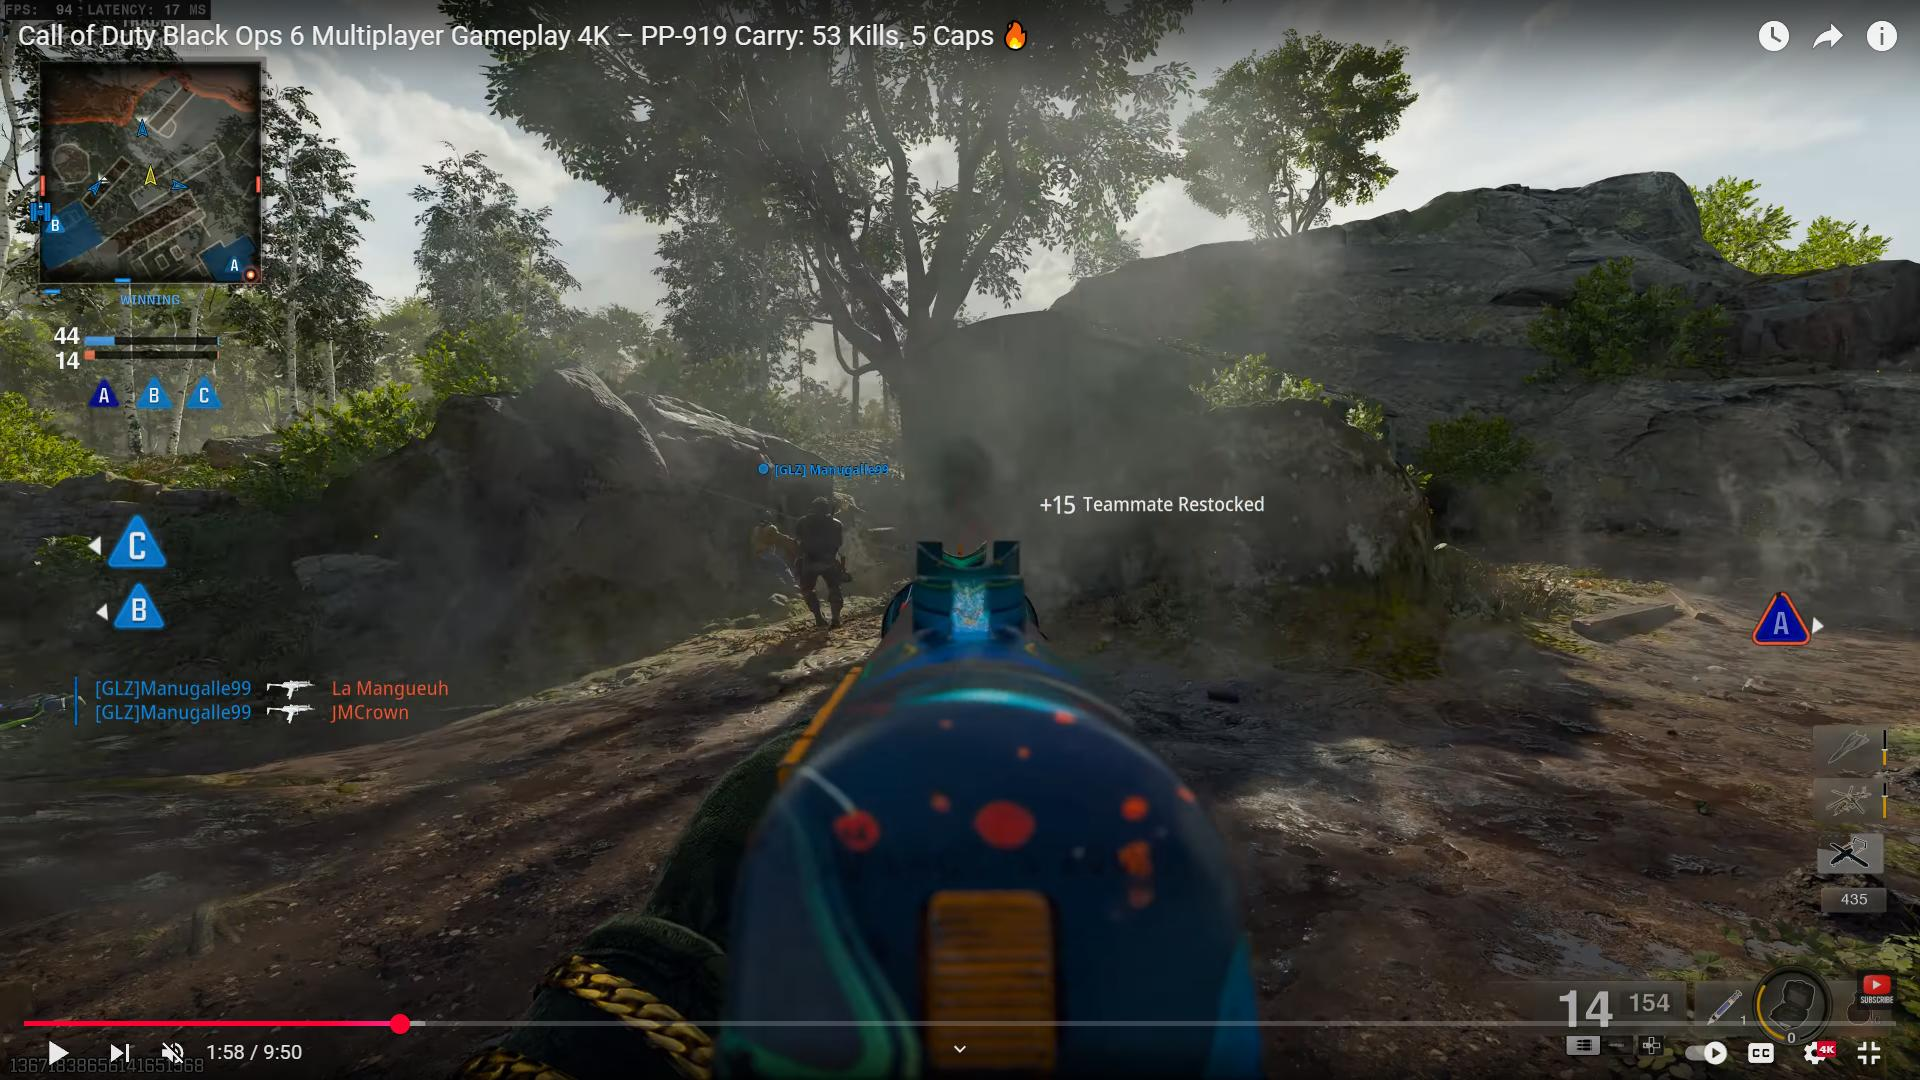Enemy: (774, 493, 862, 633)
